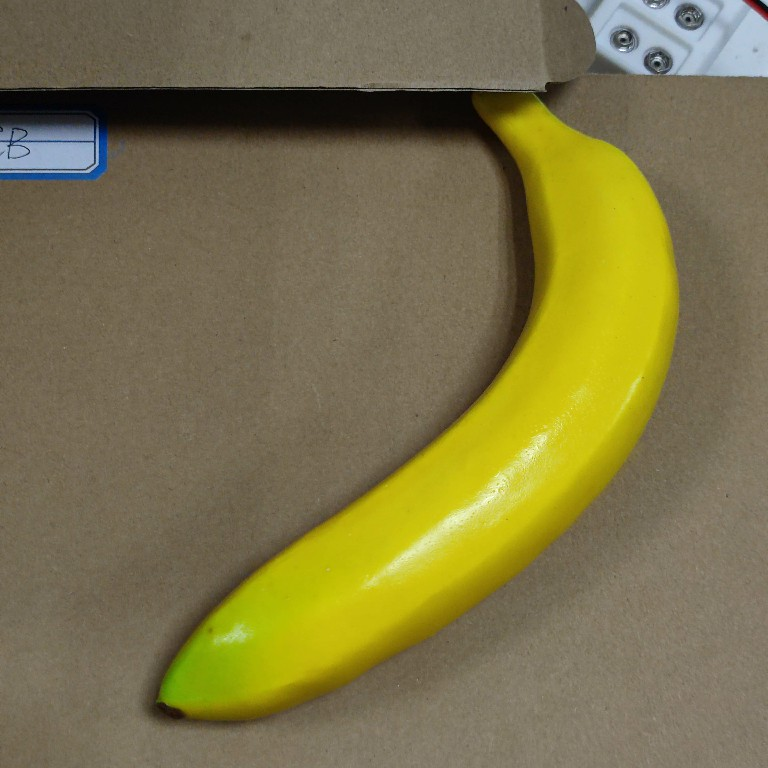fruit_banana: (151, 79, 684, 726)
